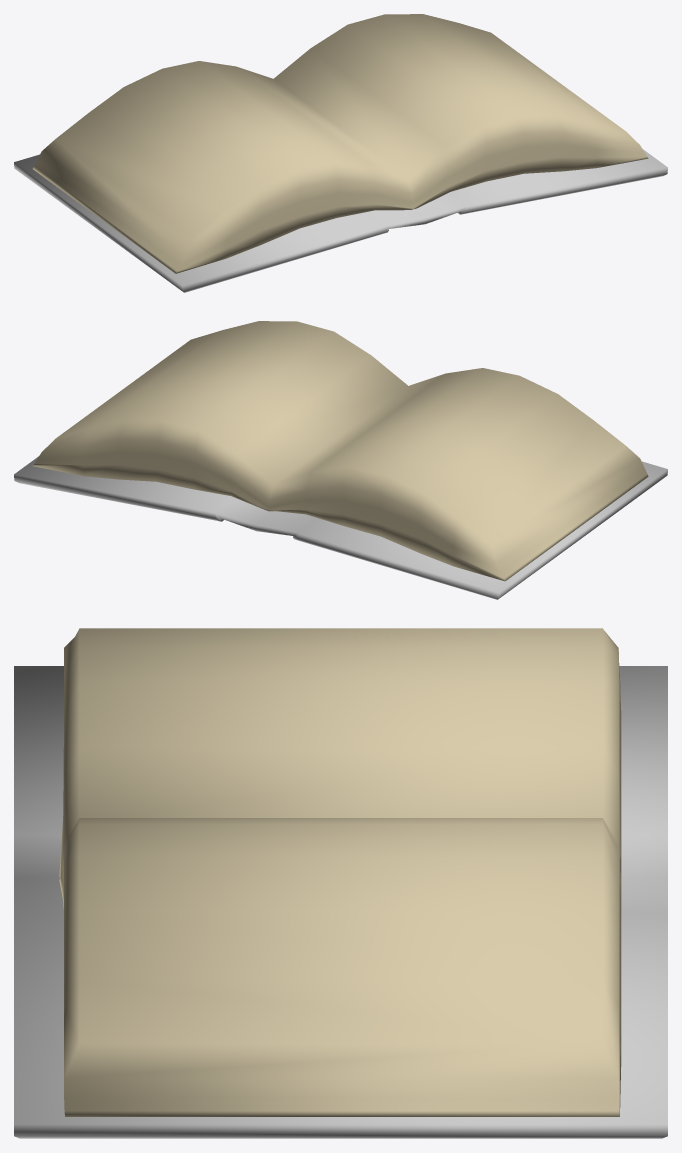
File: BookOpened.fbx
3 views of the same model, one above another, from view 1: azimuth 30°, elevation 25°; view 2: azimuth 150°, elevation 25°; view 3: azimuth 270°, elevation 25° (orthographic). The views are drawn at different scales.
Visible parts, largest first — view 1: BookOpened; view 2: BookOpened; view 3: BookOpened.
Part boxes in pixels (x1,y1,x2,y2): BookOpened: [14, 14, 667, 292]; BookOpened: [14, 321, 667, 599]; BookOpened: [14, 628, 667, 1138].
Bounding box in the file's own units: 86.37 × 14.09 × 52.08.
